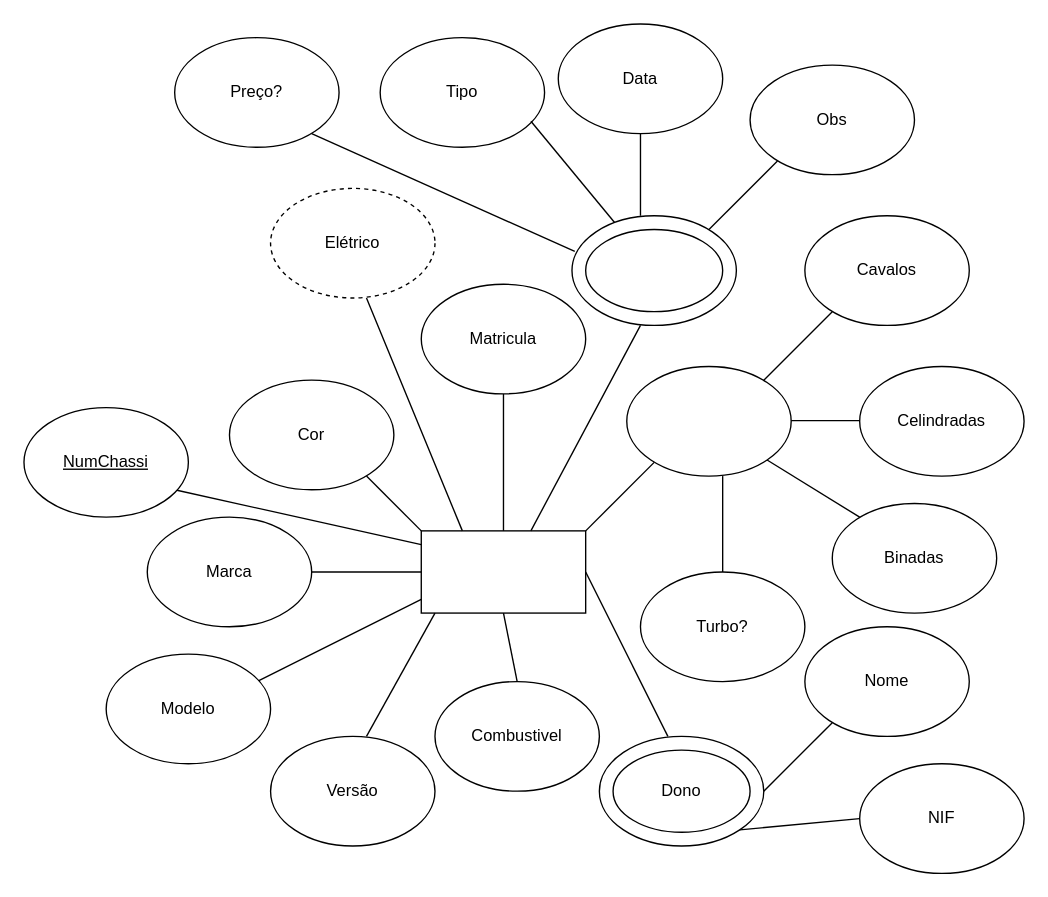
The diagram is 1048 pixels wide and 897 high, and some of its shapes have lost their labels. The shapes that lost their labels are listed below. From the top down, each one's centre as x and y in pixels, then its label:
point (653, 270): Custom
point (708, 420): Motor
point (503, 571): Carro
